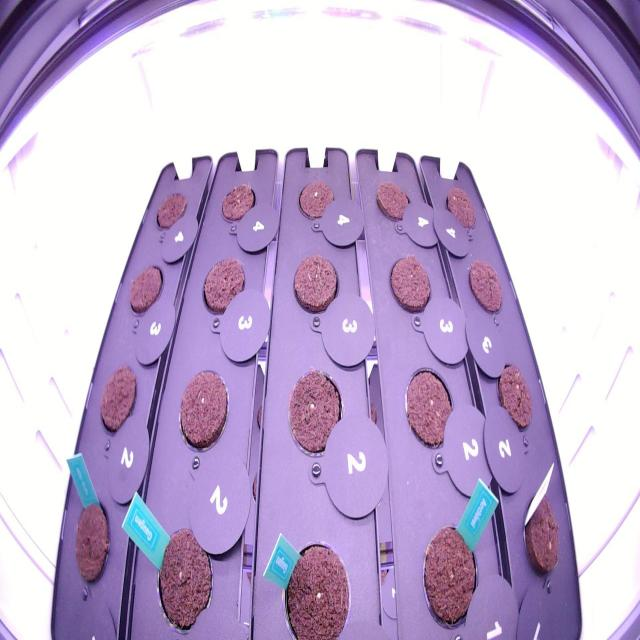pod: (277, 525, 352, 637), (150, 519, 216, 639), (419, 517, 480, 632), (280, 361, 348, 461), (174, 364, 232, 468), (402, 356, 460, 459), (519, 484, 563, 579), (288, 252, 344, 326), (72, 487, 111, 588), (490, 356, 535, 440), (94, 358, 138, 438), (199, 251, 246, 321), (387, 250, 434, 317), (464, 252, 507, 318), (370, 176, 414, 232), (124, 259, 164, 320), (294, 176, 336, 224), (218, 178, 258, 227), (442, 182, 480, 232), (153, 187, 189, 233)
